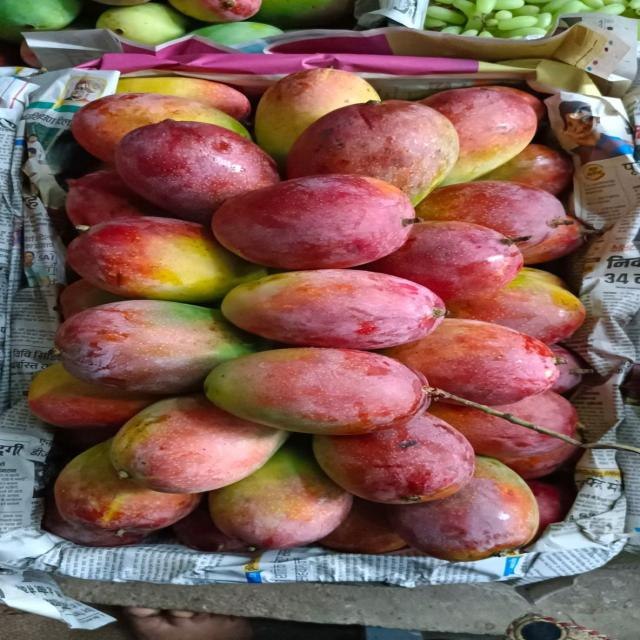mango: (206, 348, 427, 434), (213, 175, 414, 269), (56, 300, 255, 394), (287, 101, 459, 204), (221, 270, 445, 349), (67, 217, 266, 303), (111, 396, 287, 493), (115, 119, 279, 223), (389, 457, 539, 561), (385, 319, 559, 405), (209, 446, 352, 548), (314, 413, 475, 503), (416, 181, 574, 264), (55, 441, 200, 531), (366, 221, 523, 302), (72, 93, 249, 162), (255, 69, 379, 166), (420, 88, 537, 184), (447, 272, 586, 343), (28, 364, 157, 428), (430, 403, 562, 459), (116, 77, 250, 120), (66, 169, 165, 226), (41, 499, 147, 547), (477, 144, 573, 195), (319, 498, 405, 553), (172, 500, 255, 552), (500, 443, 581, 479), (254, 0, 353, 29), (527, 481, 575, 540), (59, 279, 126, 319), (191, 21, 283, 46), (480, 86, 546, 120), (169, 0, 260, 22), (55, 426, 119, 456), (550, 344, 589, 393), (521, 267, 567, 288)
